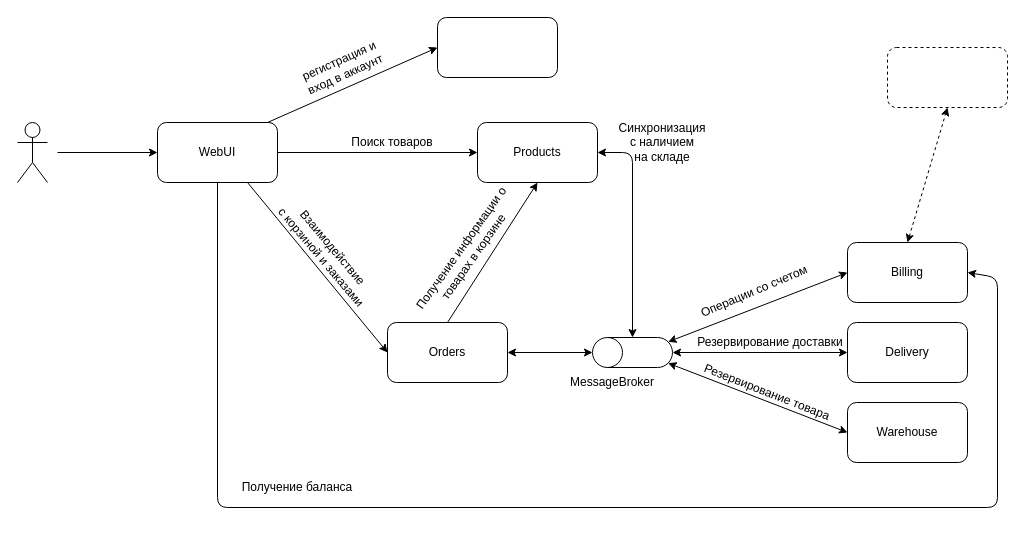
This 1025x533 diagram has some shape labels left out. The shapes that lost their labels are listed below. From the top down, each one's box as (x1, y1, x2, y2) in pixels, then its label:
(436, 16, 558, 78): Accounts Service
(886, 46, 1008, 108): Внешняя платежная интеграция
(16, 122, 48, 182): User
